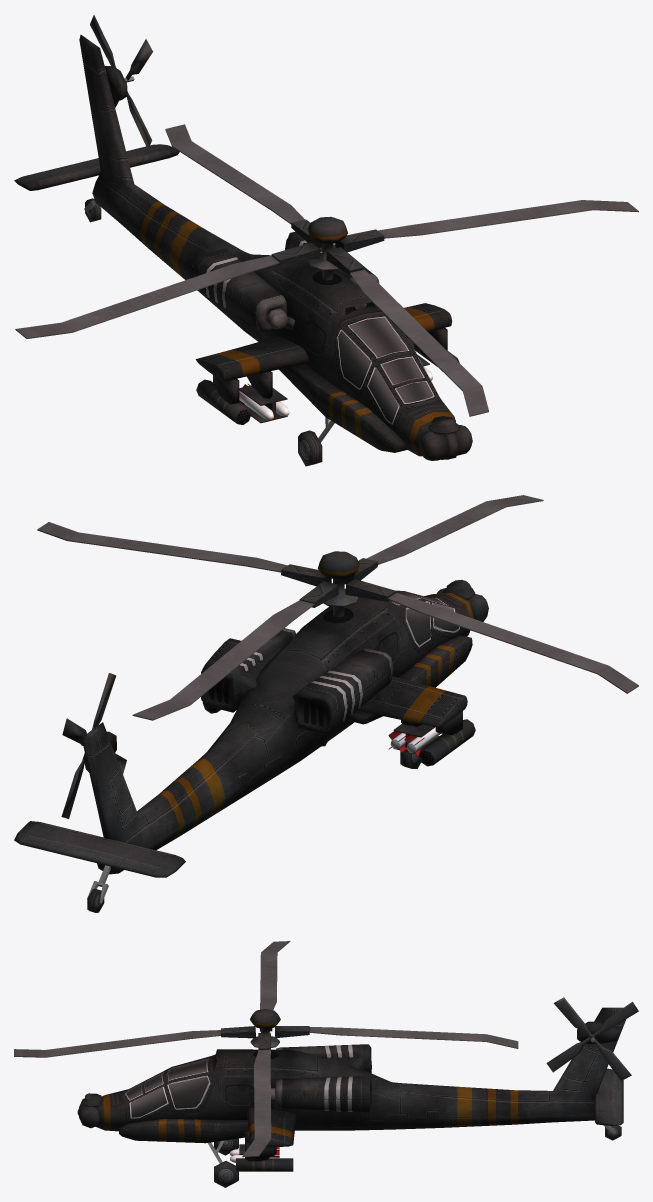
File: chopper.glb
The picture shows the model from 3 angles, top to bottom: view 1: azimuth 30°, elevation 25°; view 2: azimuth 150°, elevation 25°; view 3: azimuth 270°, elevation 25°; orthographic projection. The views are drawn at different scales.
Visible parts, largest first — view 1: body, rotor, tail; view 2: body, rotor, tail; view 3: body, rotor, tail.
Boxes of the visible parts, bbox=[...] form: body: bbox=[14, 34, 472, 466]; rotor: bbox=[15, 124, 638, 416]; tail: bbox=[90, 15, 152, 149]; body: bbox=[14, 551, 488, 912]; rotor: bbox=[37, 495, 638, 720]; tail: bbox=[61, 673, 126, 818]; body: bbox=[77, 1007, 625, 1187]; rotor: bbox=[14, 941, 518, 1157]; tail: bbox=[546, 997, 638, 1080].
Bounding box in the file's own units: 7.29 × 2.88 × 9.02.
Materials: 1 (1 with a texture image).
